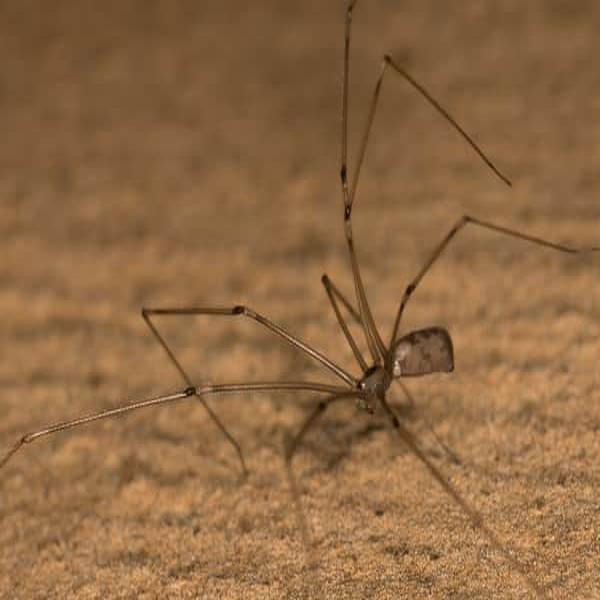Daddy Long Legs Spider: (39, 10, 513, 531)
